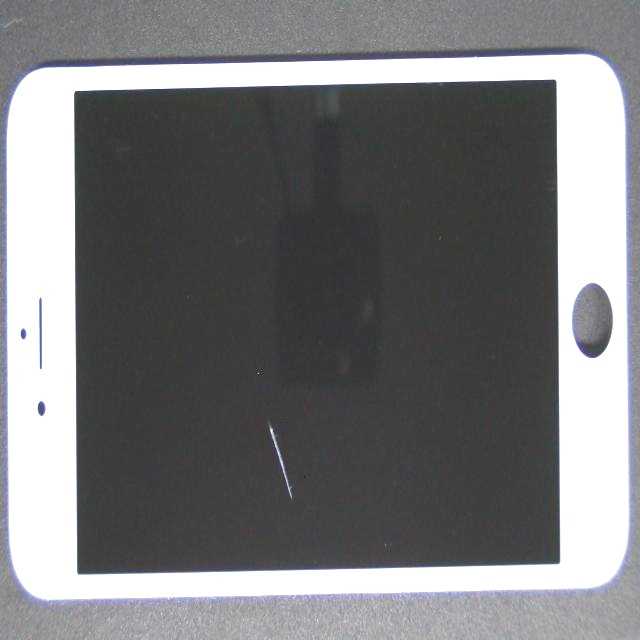scratch: (101, 137, 394, 640)
